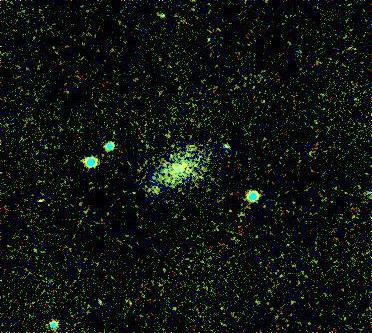star: (136, 175, 166, 205)
